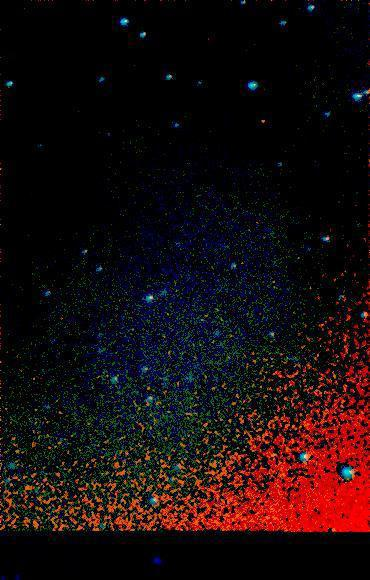star: (247, 108, 277, 138)
